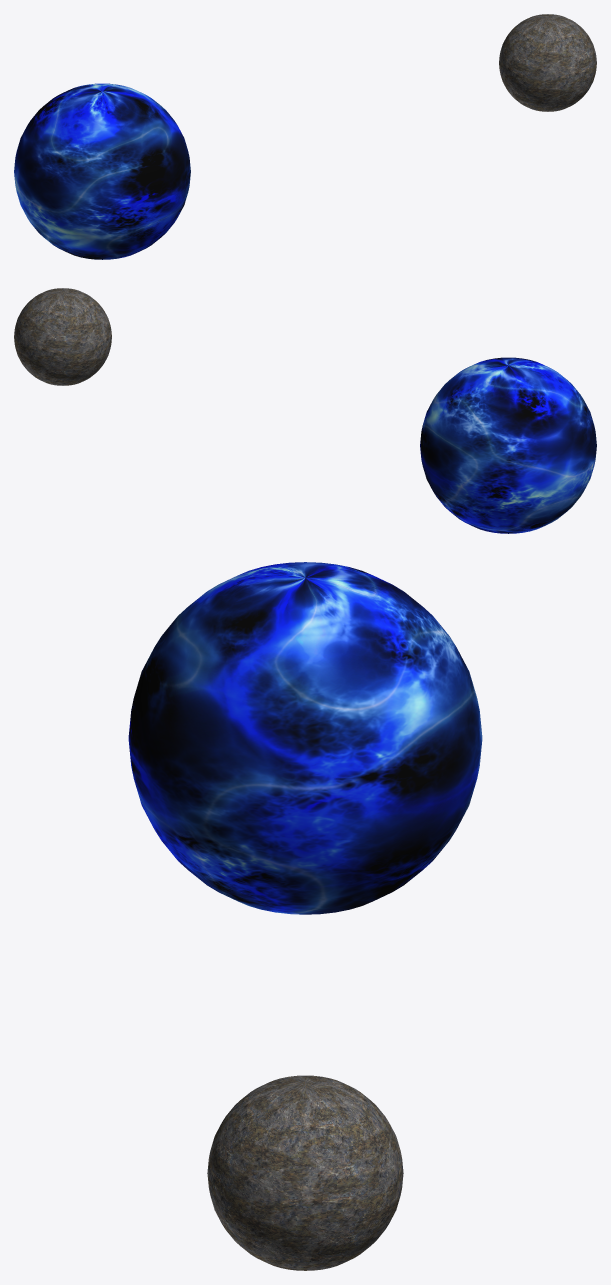
Rendered from Planets_.FBX.
The picture shows the model from 3 angles, top to bottom: view 1: azimuth 30°, elevation 25°; view 2: azimuth 150°, elevation 25°; view 3: azimuth 270°, elevation 25°; orthographic projection. The views are drawn at different scales.
Parts seen in each view (by area): view 1: Planet_1, Planet_2; view 2: Planet_1, Planet_2; view 3: Planet_1, Planet_2.
Part boxes in pixels (bbox=[...]): Planet_1: bbox=[14, 83, 190, 259]; Planet_2: bbox=[499, 14, 596, 111]; Planet_1: bbox=[420, 357, 596, 533]; Planet_2: bbox=[14, 288, 111, 385]; Planet_1: bbox=[128, 562, 482, 914]; Planet_2: bbox=[207, 1075, 403, 1270].
Bounding box in the file's own units: 47.87 × 13 × 13.
